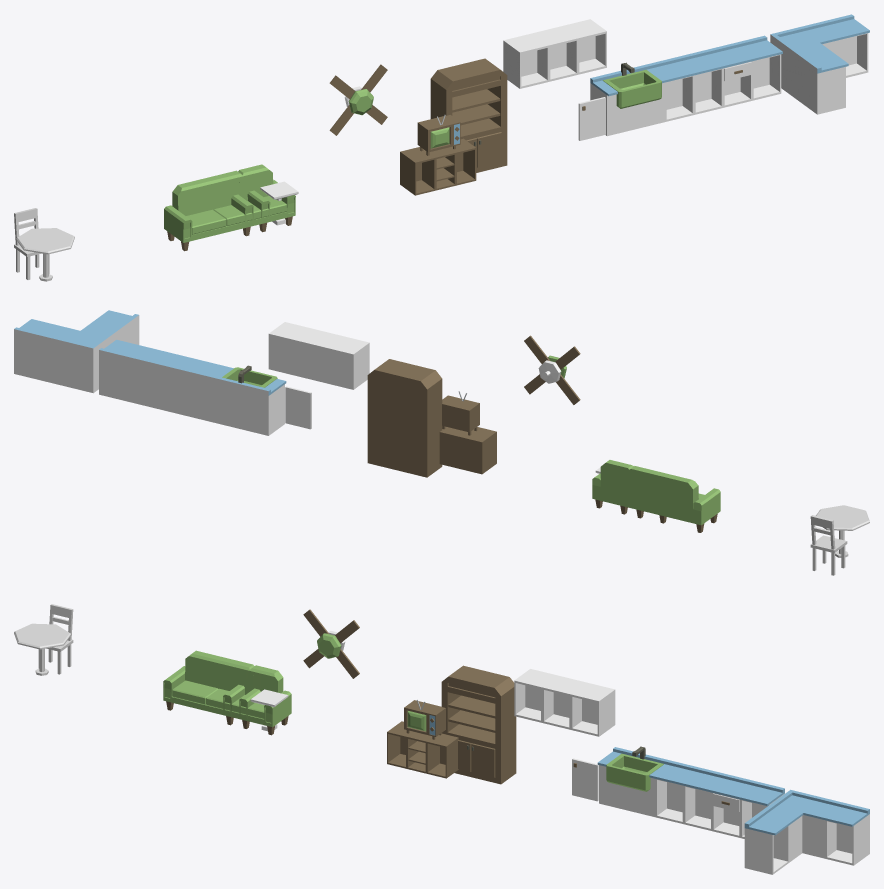
File: House Props.fbx
The picture shows the model from 3 angles, top to bottom: view 1: azimuth 30°, elevation 25°; view 2: azimuth 150°, elevation 25°; view 3: azimuth 330°, elevation 25°; orthographic projection. The views are drawn at different scales.
Parts seen in each view (by area): view 1: Kitchen Cabinets 2, Shelf 1, Kitchen Cabinets Sink, Kitchen Cabinets Top, Kitchen Cabinets 1, Sofa, TV Table, Chair 1, Dinner Table, TV, Cabinet Door 1, Blades (+2 smaller); view 2: Shelf 1, Kitchen Cabinets 2, Kitchen Cabinets Sink, Kitchen Cabinets 1, Kitchen Cabinets Top, Sofa, TV Table, Chair 1, Chair 2, TV, Dinner Table, Blades (+1 smaller); view 3: Kitchen Cabinets 2, Shelf 1, Kitchen Cabinets Sink, Kitchen Cabinets Top, Sofa, Kitchen Cabinets 1, TV Table, Chair 1, Dinner Table, TV, Cabinet Door 1, Blades (+2 smaller).
Boxes of the visible parts, x1,y1,x2,y2 form: Kitchen Cabinets 2: (770,14,869,114); Shelf 1: (430,58,507,172); Kitchen Cabinets Sink: (590,57,695,136); Kitchen Cabinets Top: (503,19,606,88); Kitchen Cabinets 1: (678,35,782,114); Sofa: (164,170,270,251); TV Table: (400,138,476,195); Chair 1: (231,164,295,236); Dinner Table: (16,228,74,281); TV: (417,115,460,155); Cabinet Door 1: (578,97,605,140); Blades: (329,64,387,135); Shelf 1: (367,359,442,477); Kitchen Cabinets 2: (14,310,139,393); Kitchen Cabinets Sink: (183,360,286,435); Kitchen Cabinets 1: (99,339,200,415); Kitchen Cabinets Top: (268,322,369,389); Sofa: (617,466,720,532); TV Table: (439,426,496,474); Chair 1: (592,460,643,518); Chair 2: (810,515,847,575); TV: (442,391,479,435); Dinner Table: (816,505,869,557); Blades: (524,335,580,404); Kitchen Cabinets 2: (744,789,869,874); Shelf 1: (441,665,516,784); Kitchen Cabinets Sink: (597,746,699,824); Kitchen Cabinets Top: (514,669,615,736); Sofa: (163,650,260,728); Kitchen Cabinets 1: (682,767,784,838); TV Table: (387,721,458,778); Chair 1: (223,665,291,735); Dinner Table: (14,623,71,675); TV: (404,699,445,739); Cabinet Door 1: (572,758,598,801); Blades: (303,609,359,678).
Size of the model in its own units: 1958 by 316 by 187.
